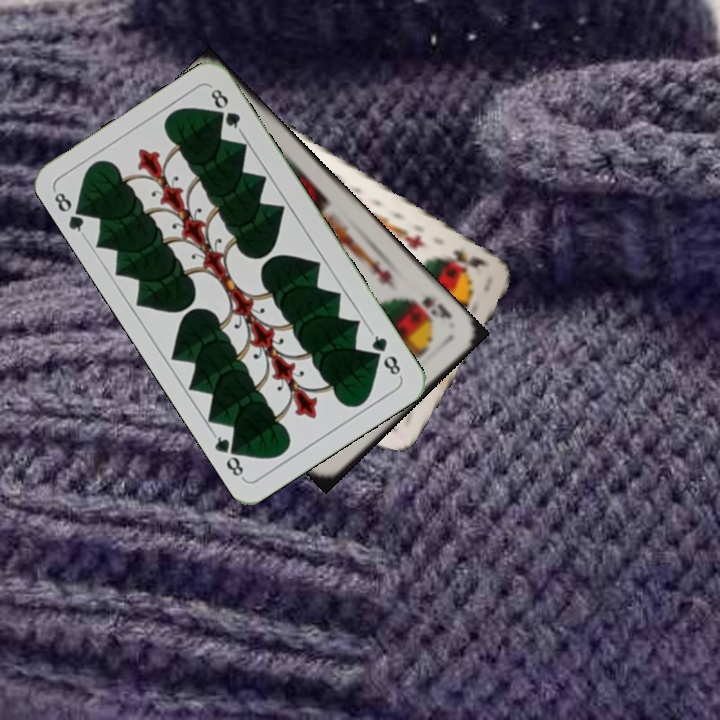G8: (49, 186, 91, 240), (366, 327, 404, 380)
SK: (442, 245, 492, 273), (418, 292, 454, 322)
